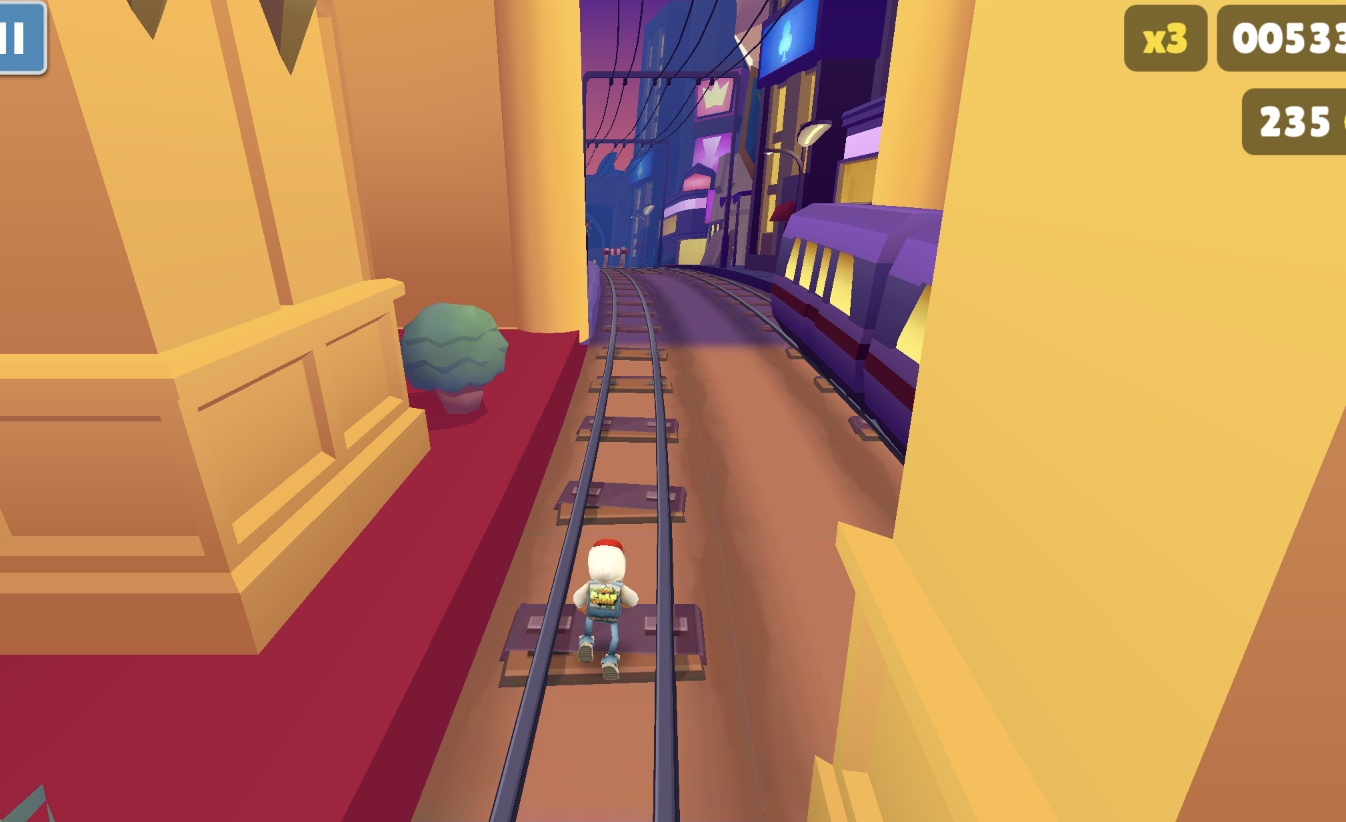ground_barrier: (596, 246, 624, 278)
pillar: (802, 0, 1346, 822)
train: (774, 202, 966, 428)
